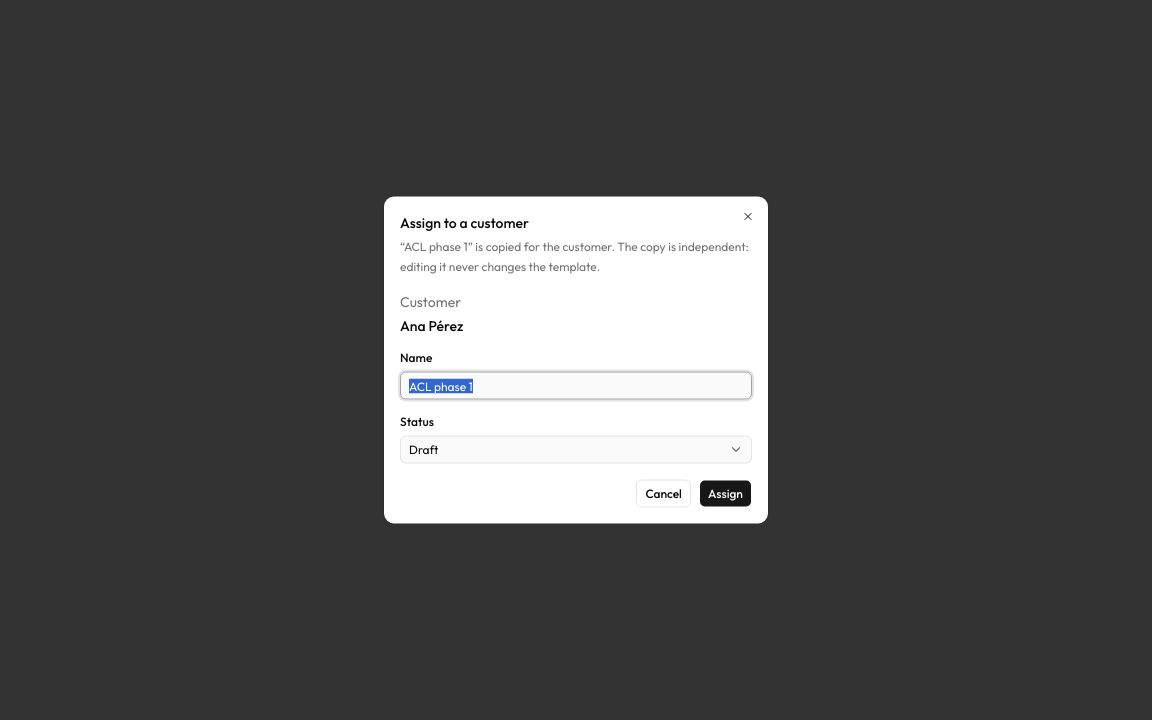
Test case: AssignTemplateDialog with a fixed customer › shows templateArchived from the server
Click the button "Assign" at (725, 494), box [699,480,752,508]
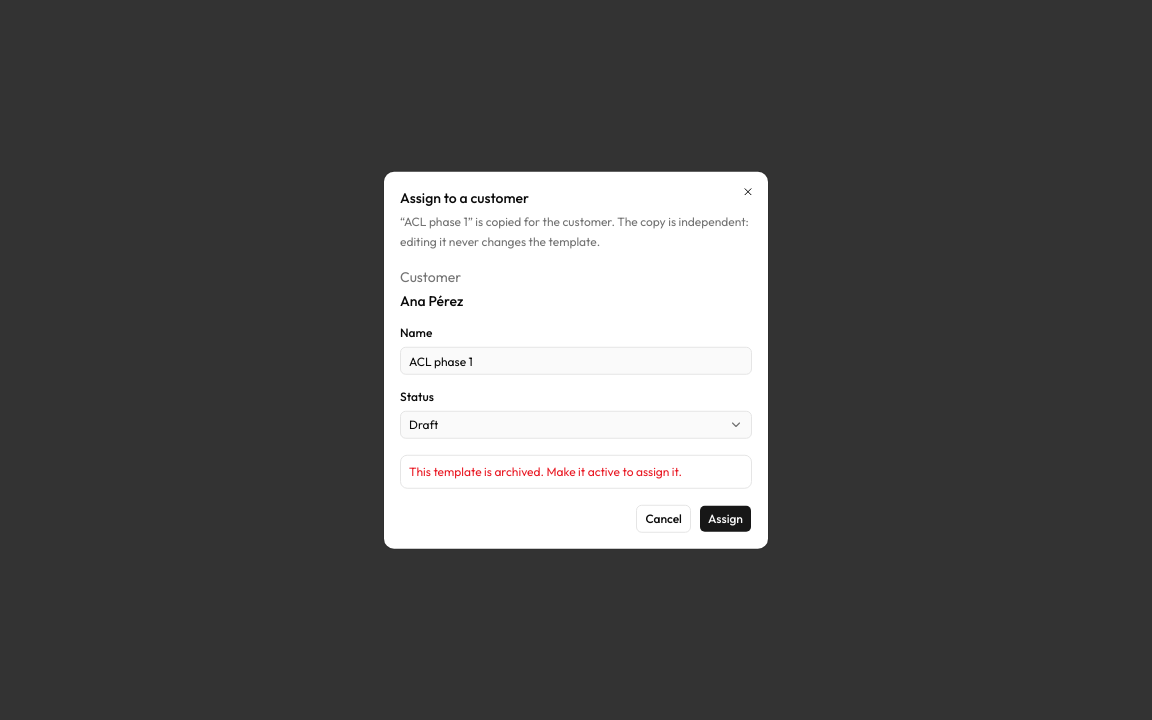
Now the message reads "This template is archived. Make it active to assign it.", box [409,464,682,479]
